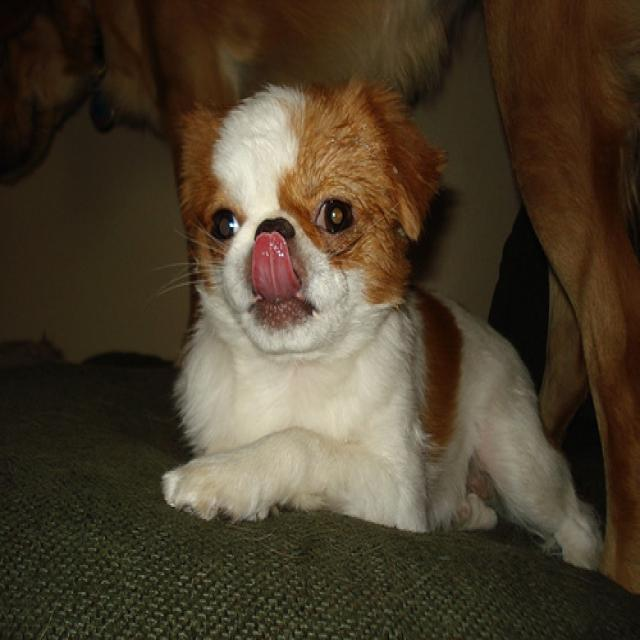dog-japanese_chin: (150, 72, 613, 582)
